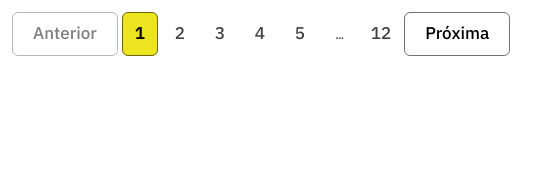
Test case: Pagination › navigates and marks the current page
expect the button "Anterior" is disabled: met, box [12,12,118,56]
Click the button "Próxima".
click(457, 34)  # box [404,12,510,56]
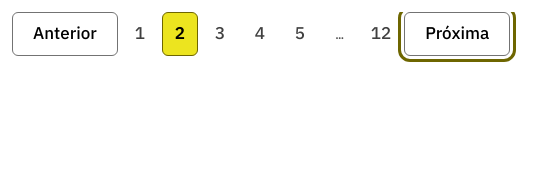
expect the button named "Página 2" is marked as current: met, box [162,12,198,56]
Click the button named "Página 12".
click(381, 34)  # box [362,12,400,56]
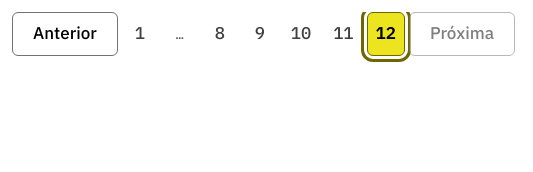
expect the button "Próxima" is disabled: met, box [409,12,515,56]
